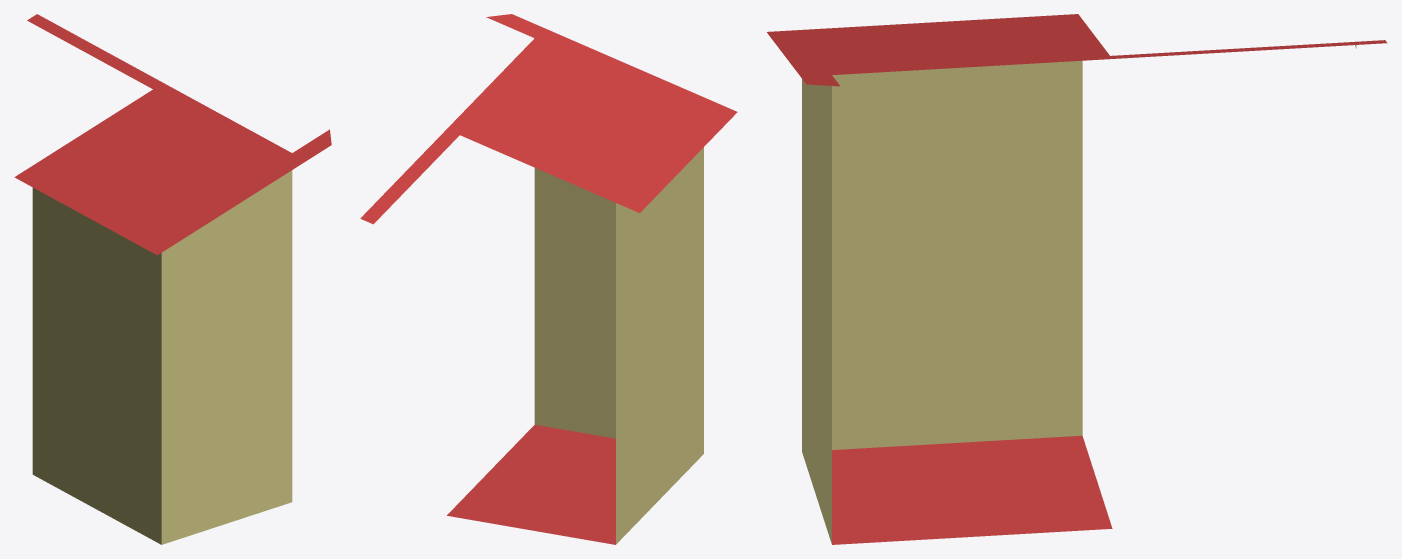
3 renders of one model, left to right at view 1: azimuth 30°, elevation 25°; view 2: azimuth 150°, elevation 25°; view 3: azimuth 270°, elevation 25°, orthographic. The views are drawn at different scales.
Bounding box in the file's own units: 5.59 × 9.83 × 8.47.
